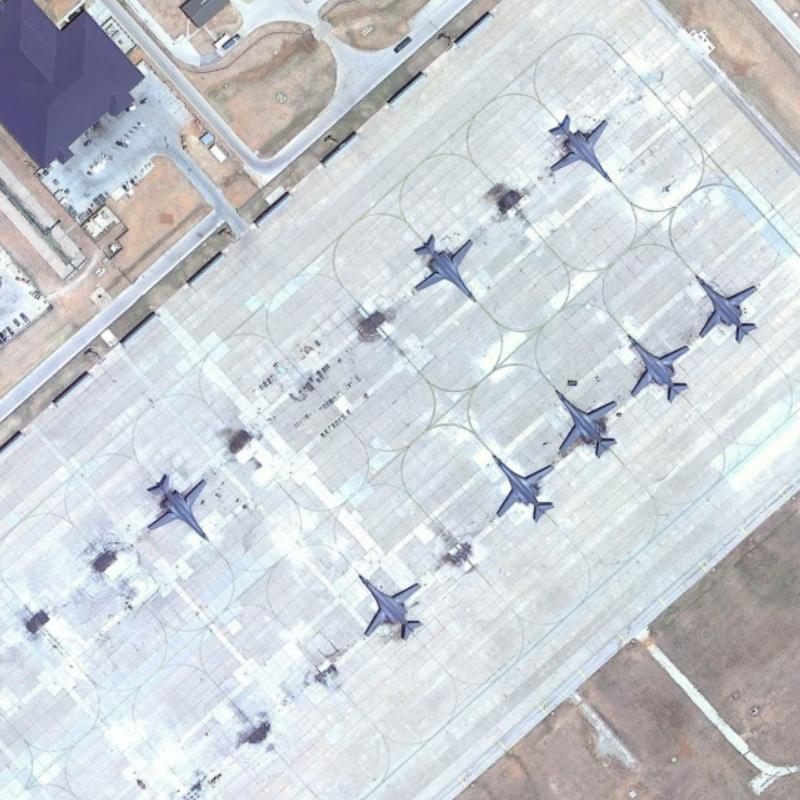A10: (347, 563, 426, 646), (688, 266, 764, 350), (543, 107, 621, 188), (619, 327, 695, 410), (403, 227, 481, 306), (486, 448, 559, 532), (549, 382, 622, 462), (143, 470, 214, 541)
